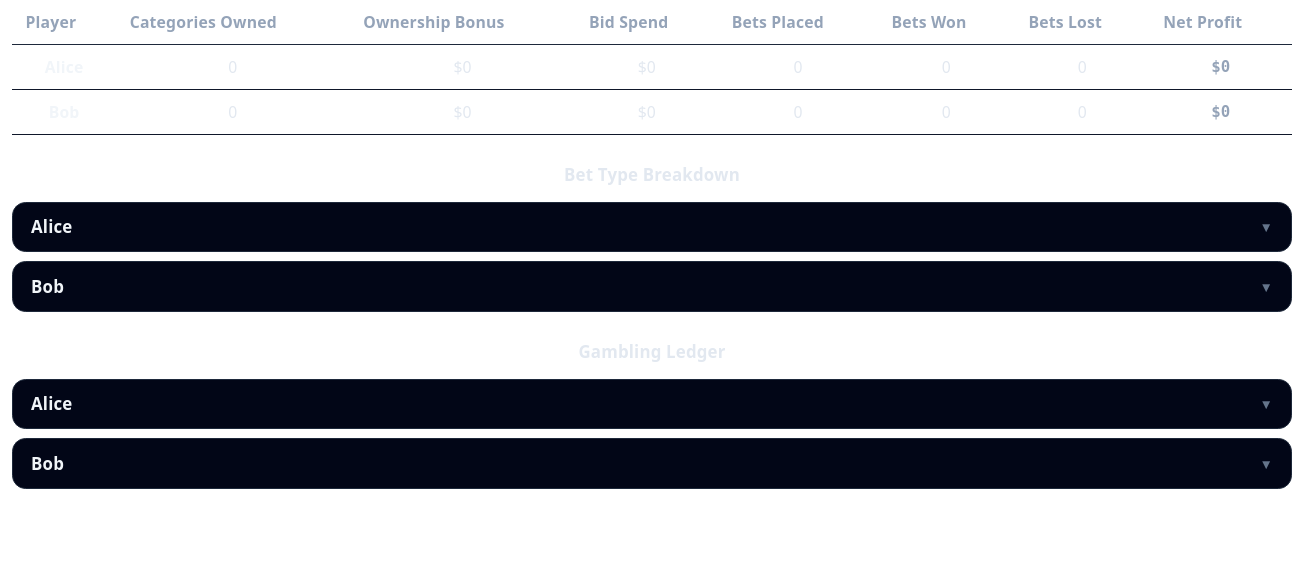
Test: GamblingAnalytics › empty ledger displays appropriate message › shows "No gambling actions recorded" inside an expanded player section
The width and height of the screenshot is (1304, 587).
Step 1. Click the button "Alice ▼" below "Gambling Ledger" → (52, 403), box [13, 380, 1291, 428]
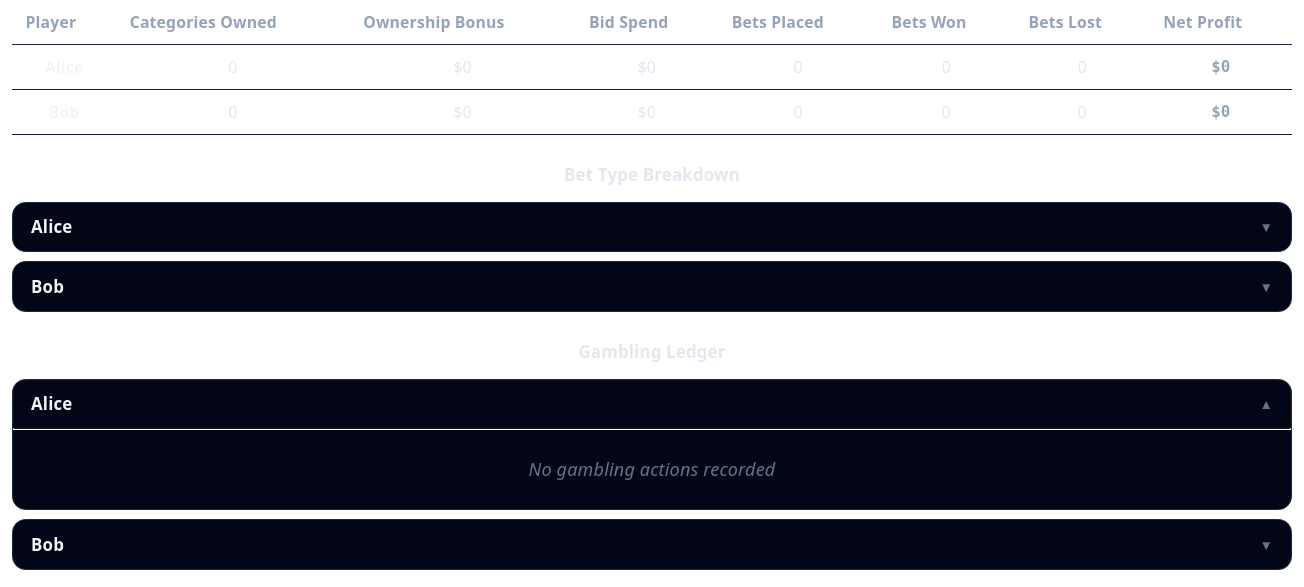
Expected: the text "No gambling actions recorded" is shown, [528, 457, 775, 481]
